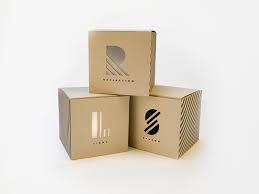cube: (57, 85, 131, 159), (131, 86, 205, 157), (86, 31, 158, 96)
